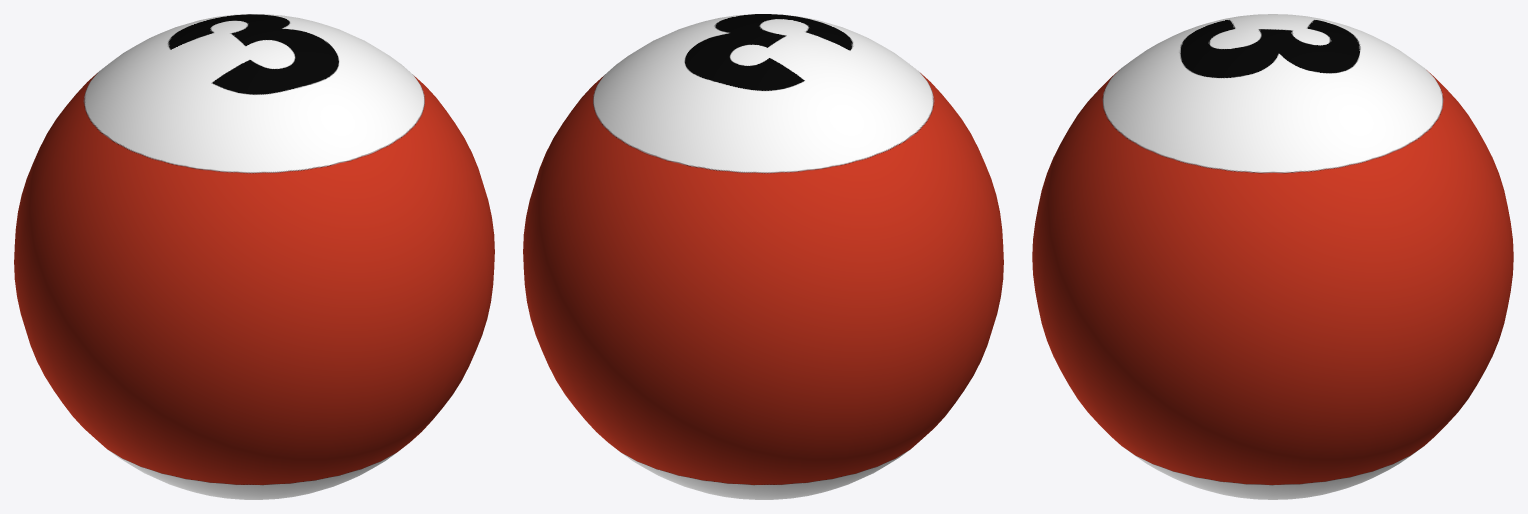
3 views of the same model, side by side, from view 1: azimuth 30°, elevation 25°; view 2: azimuth 150°, elevation 25°; view 3: azimuth 270°, elevation 25° (orthographic).
Parts seen in each view (by area): view 1: 3-three; view 2: 3-three; view 3: 3-three.
Boxes of the visible parts, box(x1,y1,x2,y2) form: 3-three: box(14, 14, 494, 499); 3-three: box(523, 14, 1003, 499); 3-three: box(1032, 14, 1513, 499).
Size of the model in its own units: 0.5015 by 0.5088 by 0.5015.
Materials: 1 (1 with a texture image).
